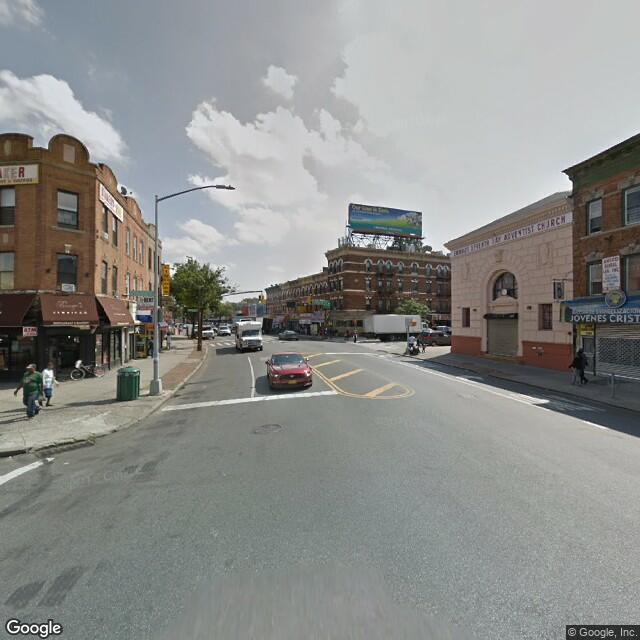litter: (42, 453, 55, 467)
